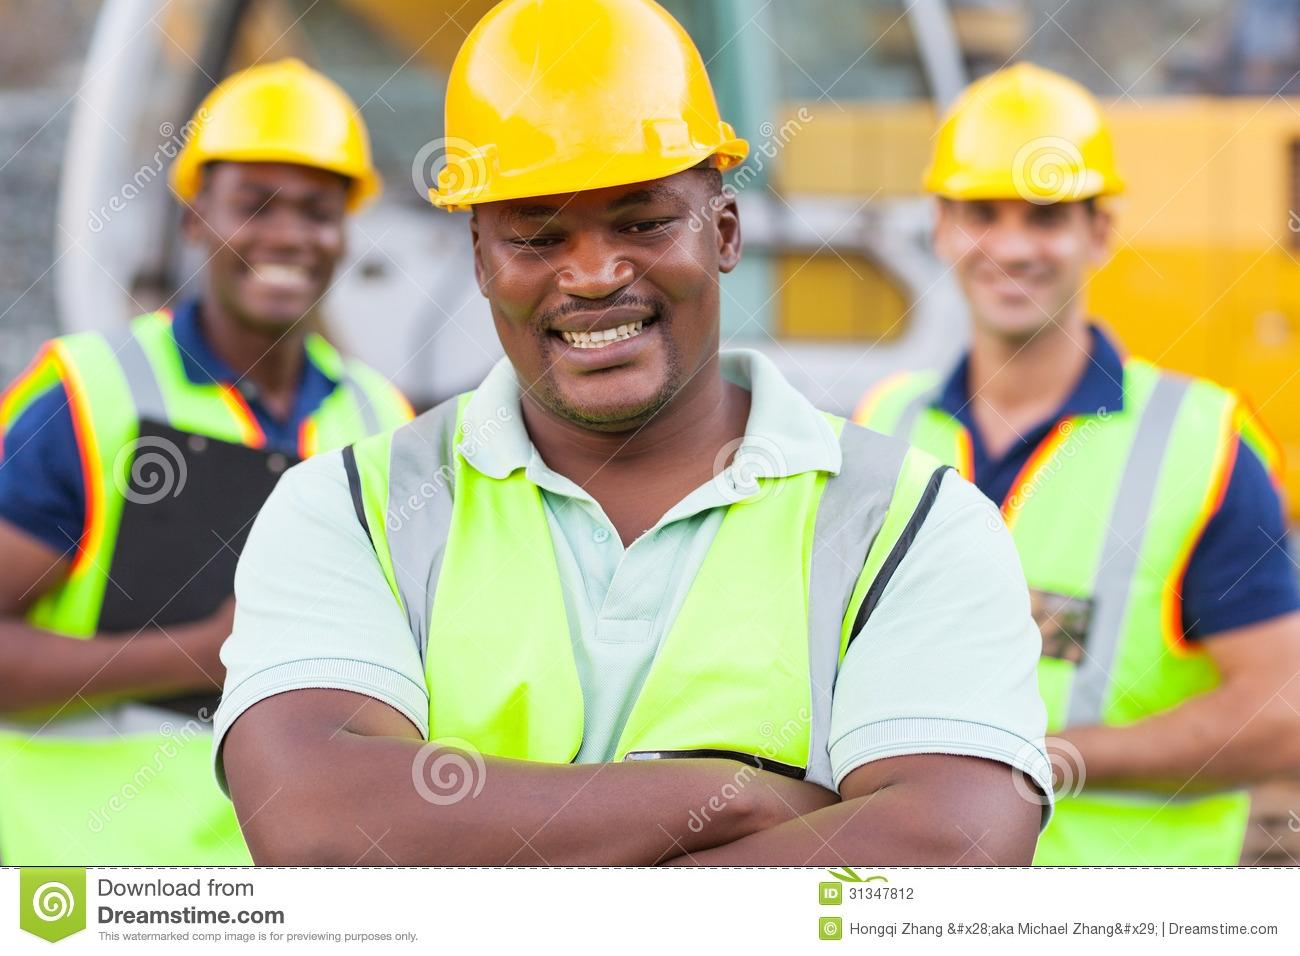helmet: (419, 0, 749, 210), (170, 54, 387, 204), (923, 59, 1127, 209)
wear: (242, 434, 1034, 863), (0, 328, 405, 888), (1027, 362, 1260, 884)
